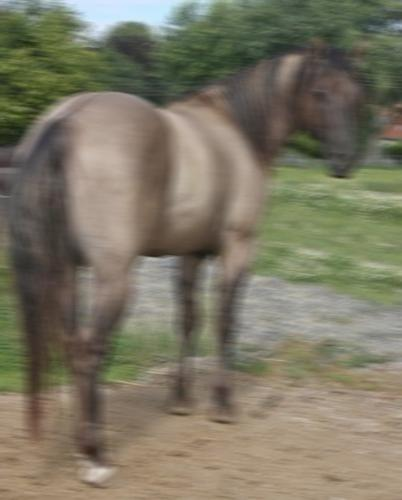horse: (0, 31, 370, 488)
